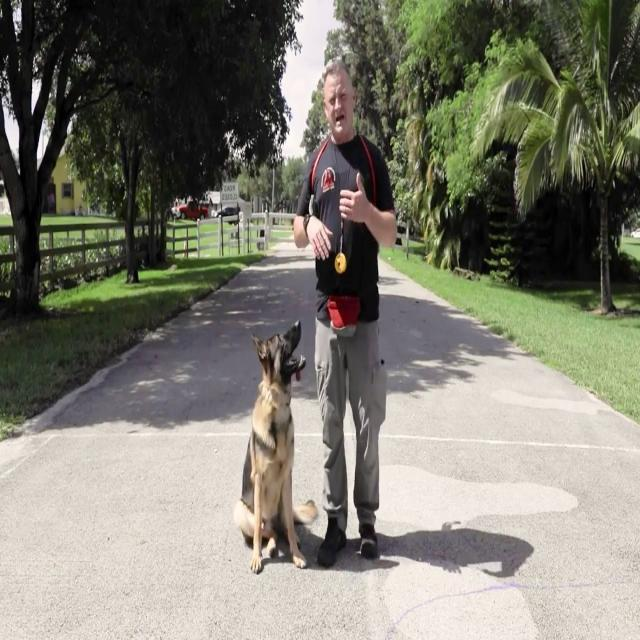Unleashed_Dog: (233, 306, 374, 574)
